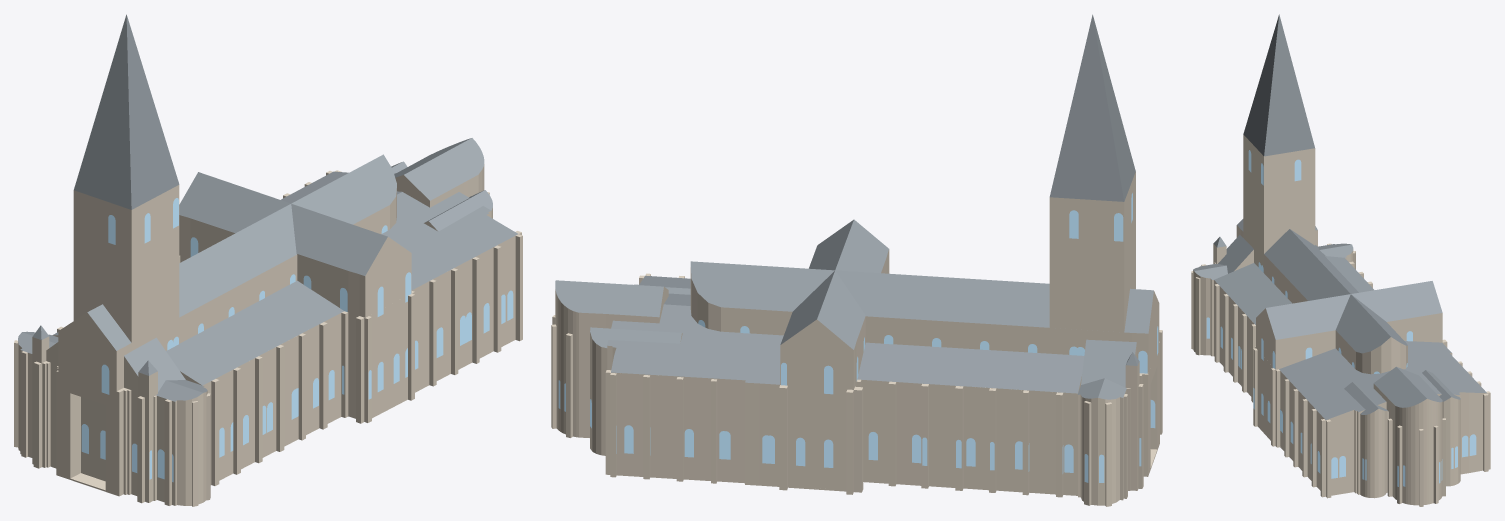
Rendered from detail.glb.
3 renders of one model, left to right at view 1: azimuth 30°, elevation 25°; view 2: azimuth 150°, elevation 25°; view 3: azimuth 270°, elevation 25°, orthographic. The views are drawn at different scales.
Visible parts, largest first — view 1: stone, roof, window; view 2: stone, roof, window; view 3: stone, roof, window.
Boxes of the visible parts, bbox=[...] form: stone: bbox=[14, 164, 522, 506]; roof: bbox=[18, 14, 517, 401]; window: bbox=[81, 198, 513, 482]; stone: bbox=[551, 171, 1162, 506]; roof: bbox=[555, 14, 1153, 399]; window: bbox=[558, 193, 1158, 482]; stone: bbox=[1191, 134, 1490, 506]; roof: bbox=[1193, 14, 1486, 419]; window: bbox=[1206, 150, 1476, 486].
Size of the model in its own units: 94.9 by 78 by 63.94.
